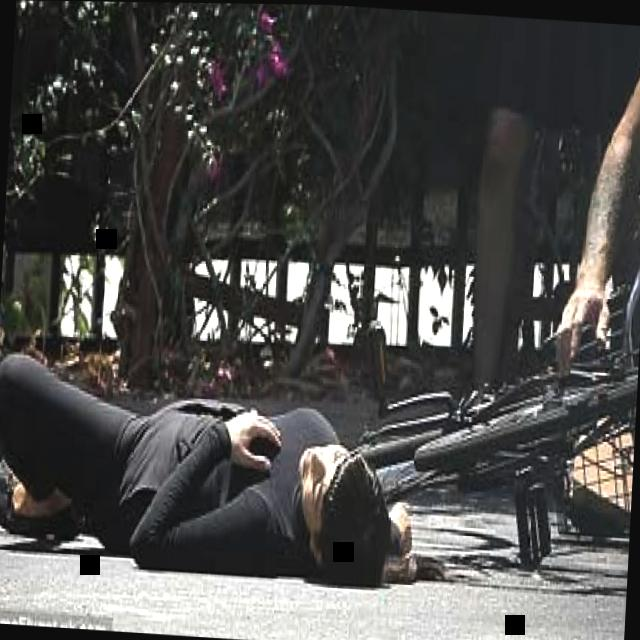Fall-Detected: (0, 327, 447, 591)
